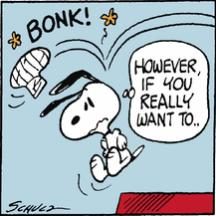snoopy: (39, 68, 145, 184)
